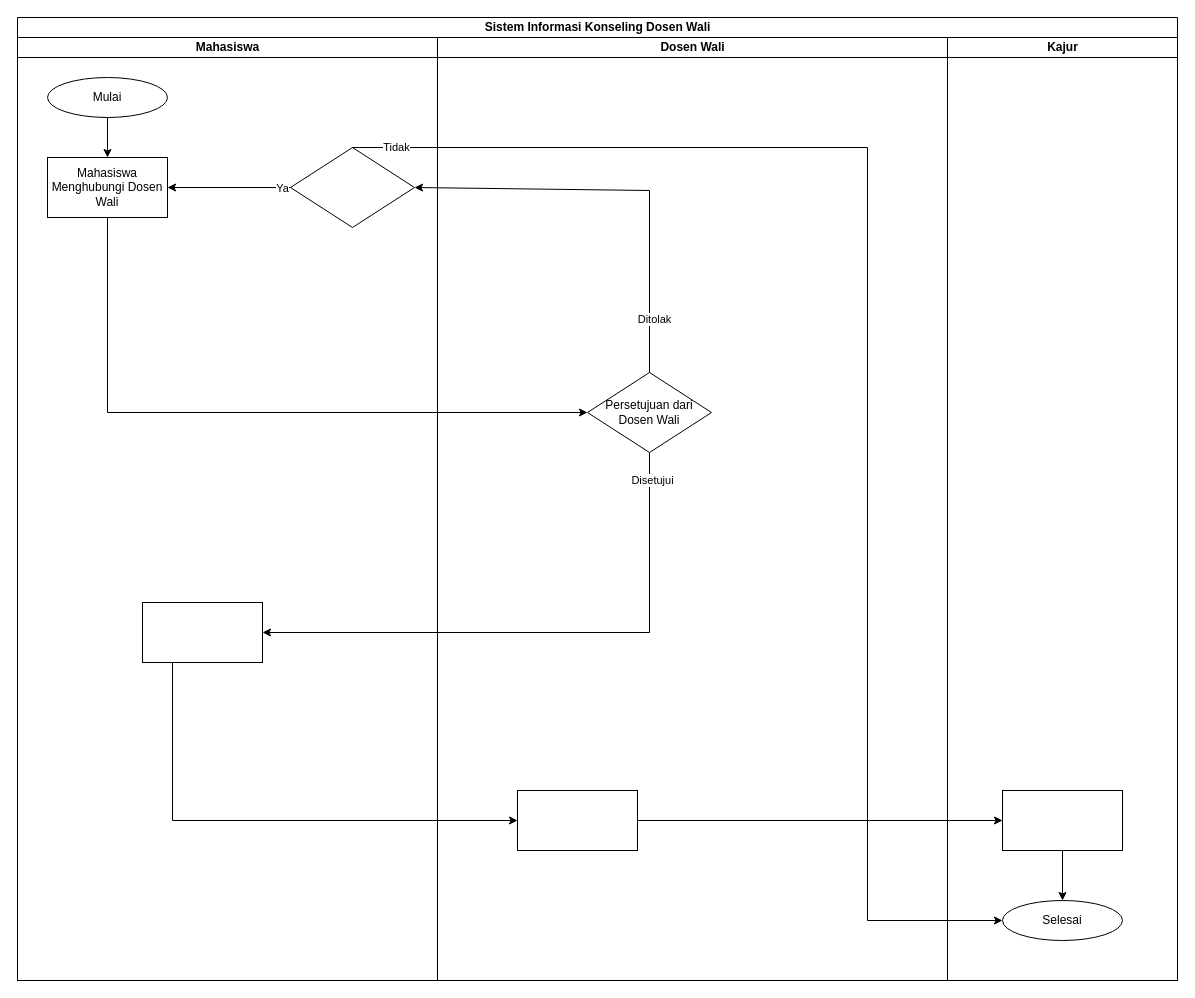
The diagram is 1195 pixels wide and 998 high, and some of its shapes have lost their labels. Each missing label, with the centre of its shape:
"Konsultasi Tatap Muka" goes at pixel 202 632.
"Melihat Laporan" goes at pixel 1062 820.
"Pembuatan Laporan Perwalian" goes at pixel 577 820.
"Request Ulang?" goes at pixel 352 187.
